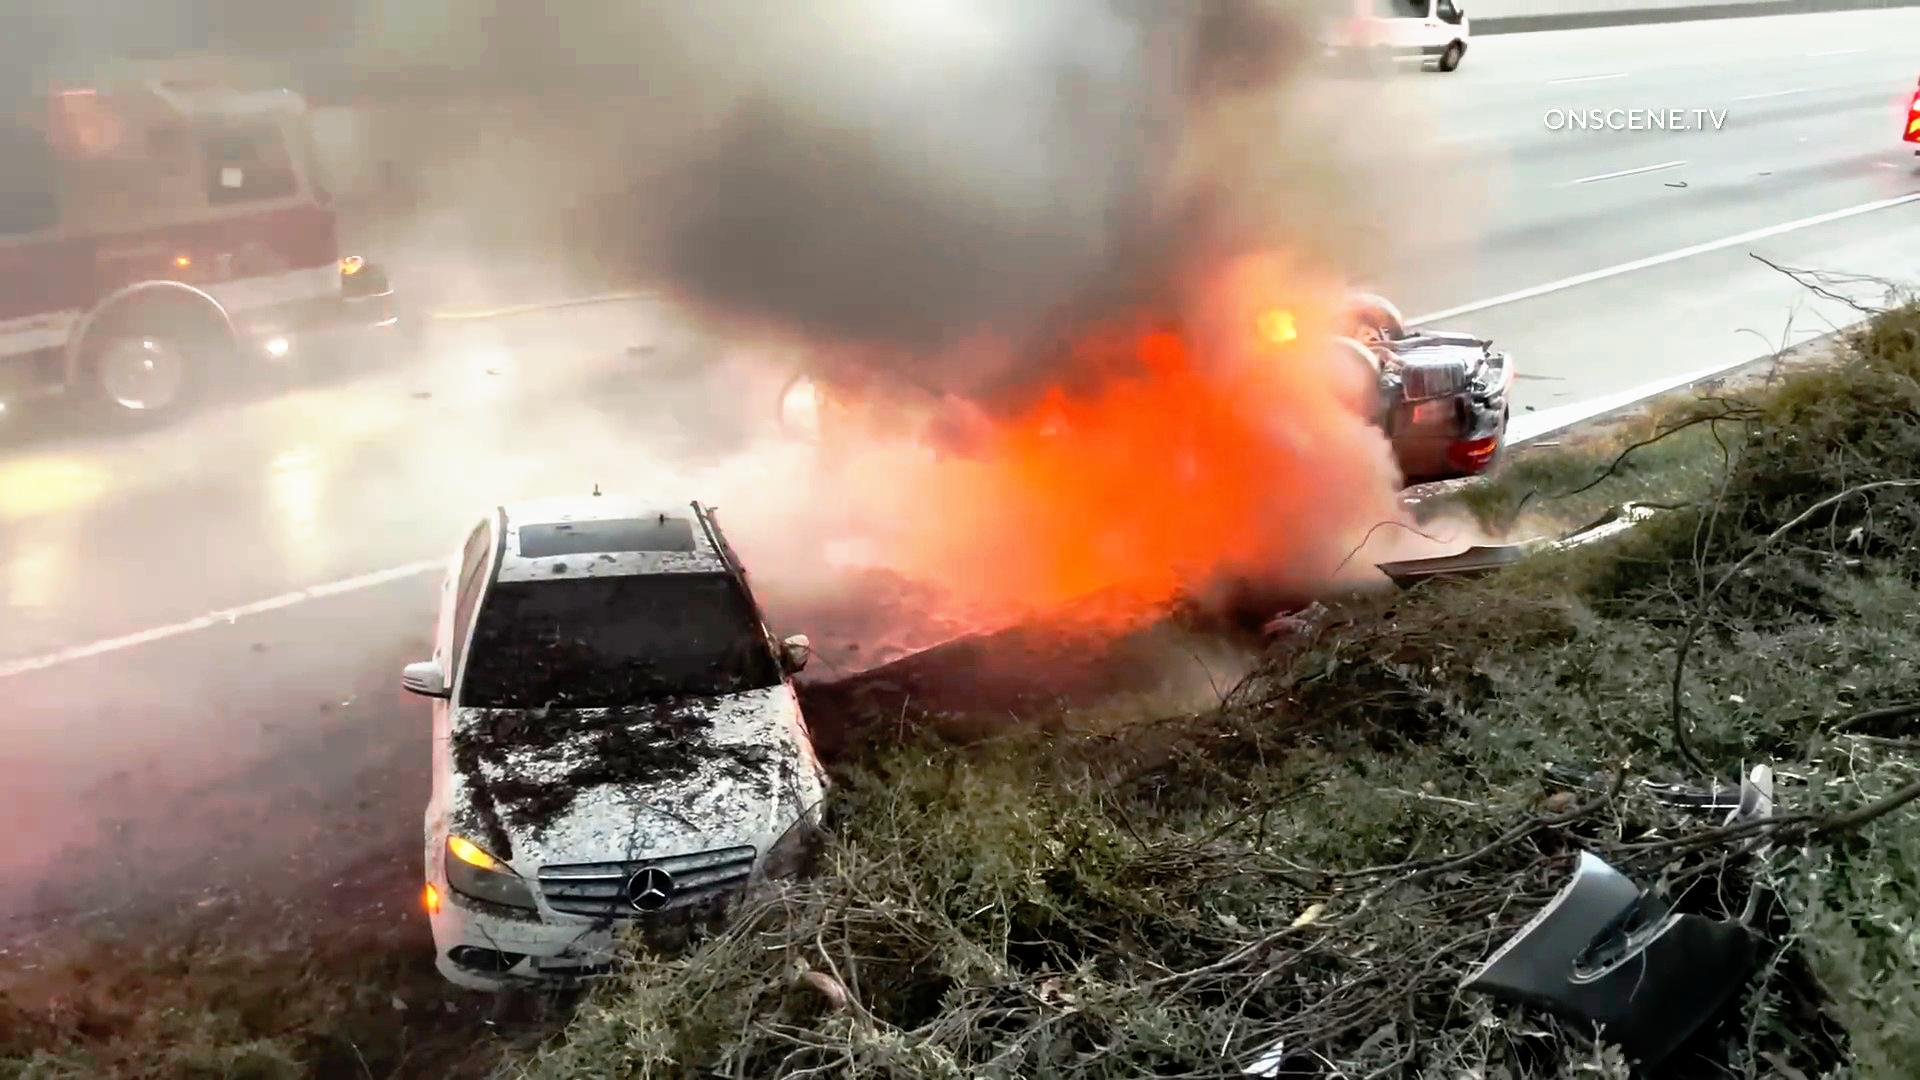fire: (1009, 367, 1254, 611), (1255, 297, 1313, 369)
smoke: (0, 0, 1234, 334)
